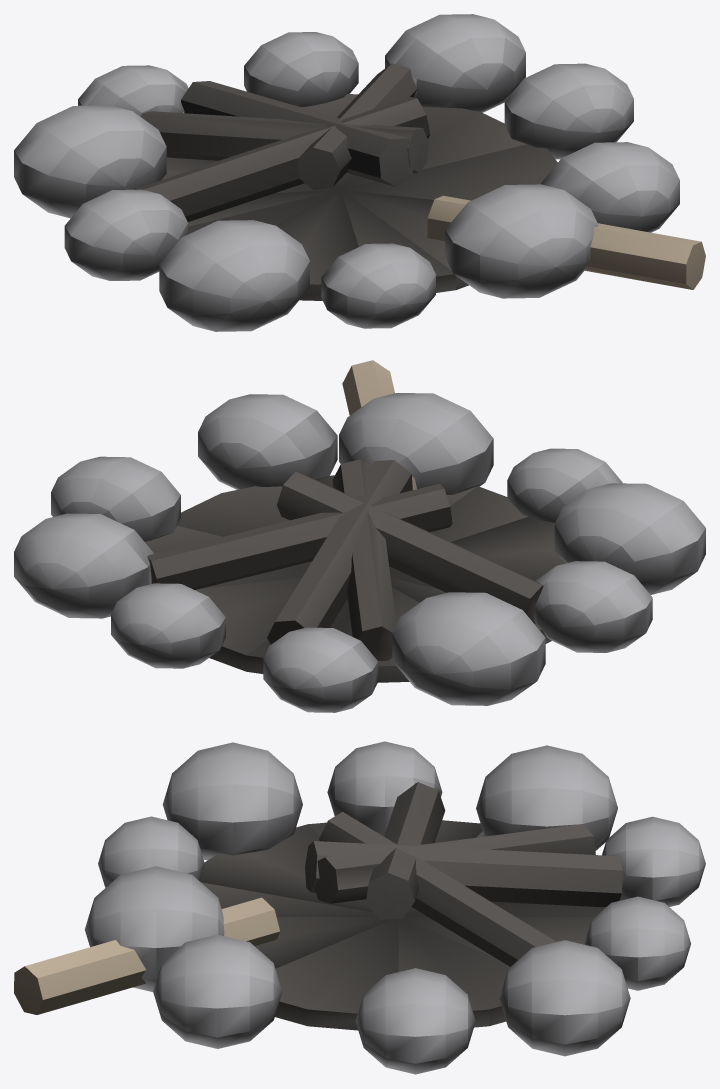
File: campfire.glb
The picture shows the model from 3 angles, top to bottom: view 1: azimuth 30°, elevation 25°; view 2: azimuth 150°, elevation 25°; view 3: azimuth 270°, elevation 25°; orthographic projection. The views are drawn at different scales.
Parts seen in each view (by area): view 1: static; view 2: static; view 3: static.
Part boxes in pixels (x1=…): static: x1=14, y1=14, x2=705, y2=331; static: x1=14, y1=360, x2=705, y2=712; static: x1=14, y1=741, x2=705, y2=1074.
Bounding box in the file's own units: 0.9156 × 0.1685 × 0.9333.
